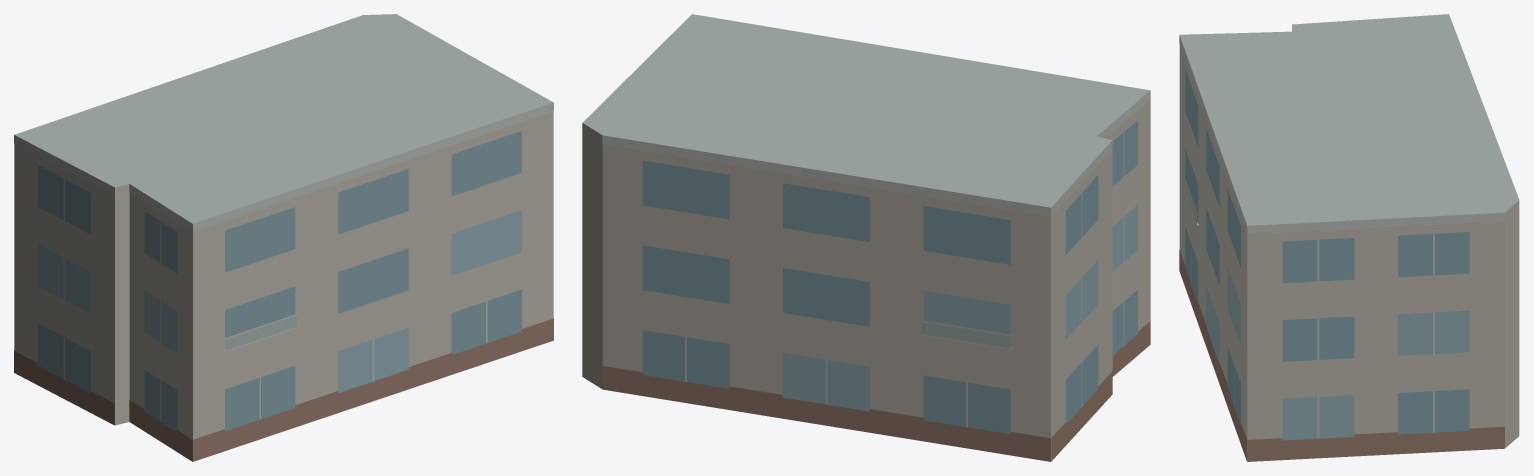
The model's file is survey-upis-32728989.glb.
The picture shows the model from 3 angles, left to right: view 1: azimuth 30°, elevation 25°; view 2: azimuth 150°, elevation 25°; view 3: azimuth 270°, elevation 25°; orthographic projection. The views are drawn at different scales.
Visible parts, largest first — view 1: survey-upis-32728989.tmp; view 2: survey-upis-32728989.tmp; view 3: survey-upis-32728989.tmp.
Boxes of the visible parts, x1,y1,x2,y2 form: survey-upis-32728989.tmp: (14, 14, 553, 461); survey-upis-32728989.tmp: (582, 14, 1150, 461); survey-upis-32728989.tmp: (1179, 14, 1519, 461).
Size of the model in its own units: 13.1 by 6.8 by 8.89.
